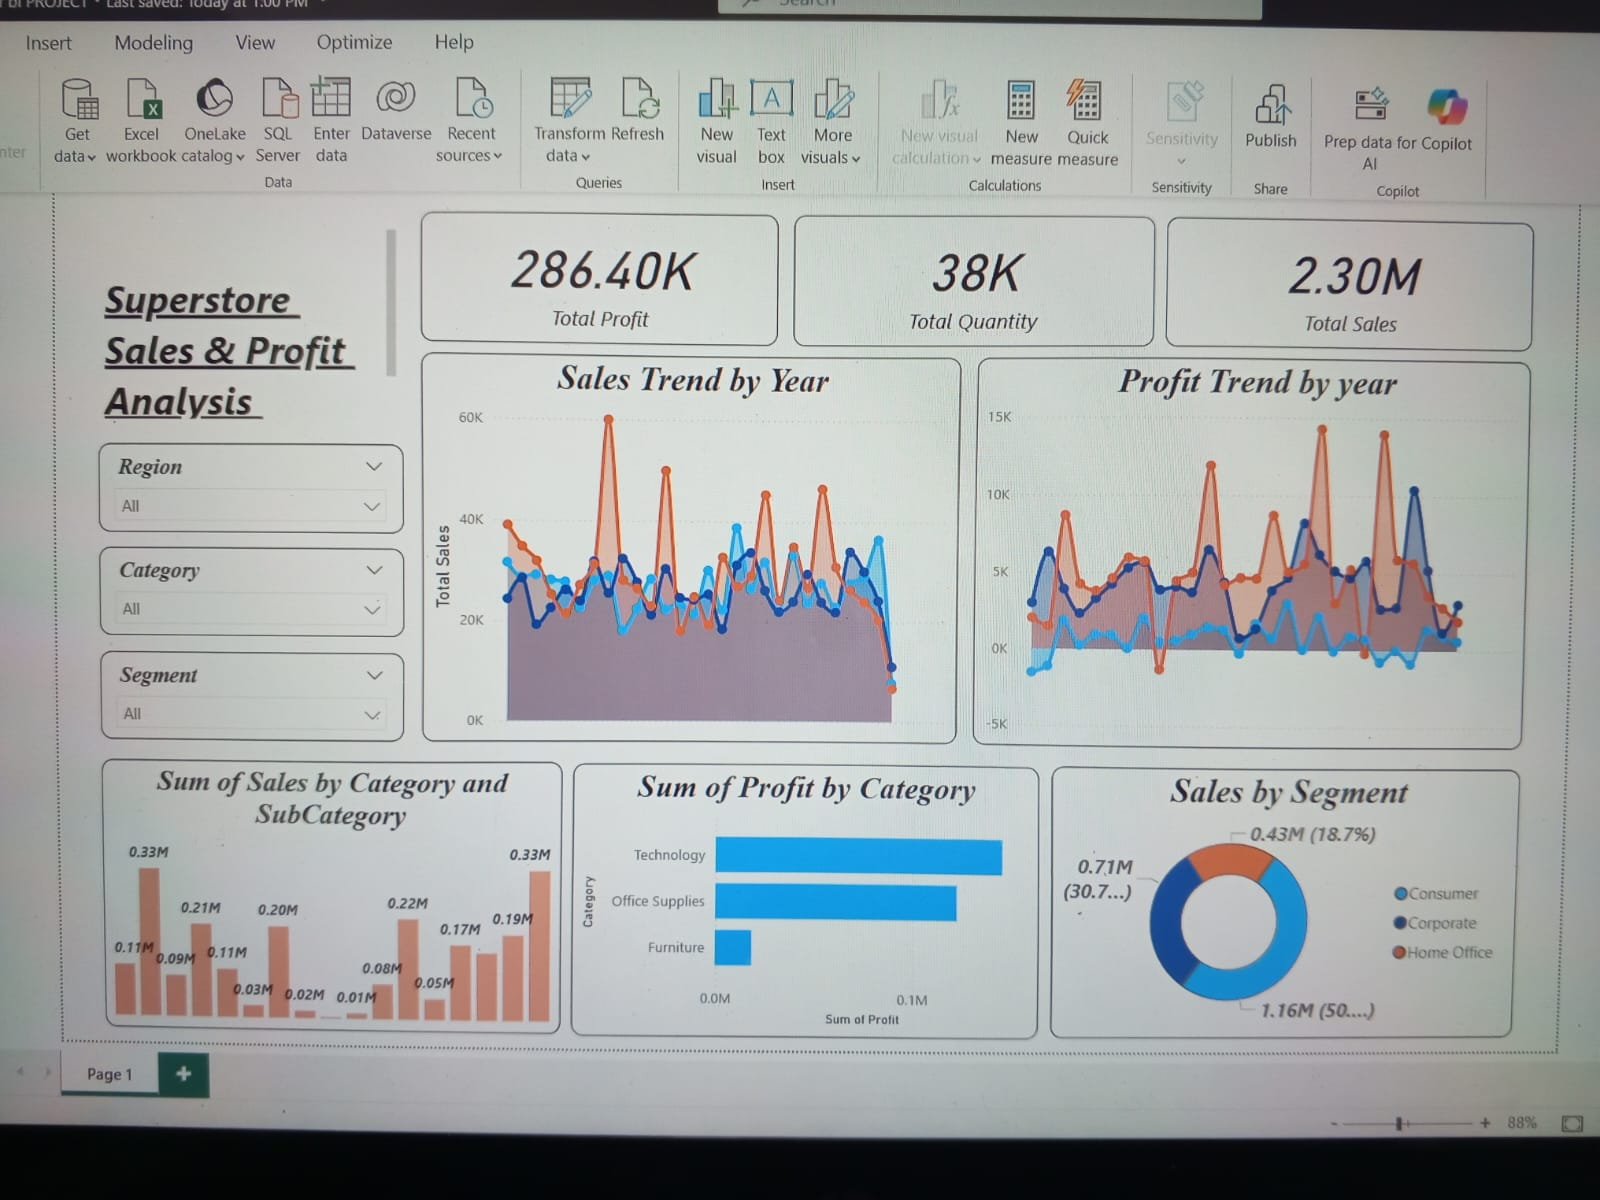

Layout of this report page (visuals, bound fields, positions):
{"tool":"powerbi","page":{"name":"Page 1","canvas":[1280,720],"ordinal":0},"visuals":[{"type":"card","fields":{"Values":["new_SampleSuperstore.Total Profit"]},"box":[310.5,17.4,297.7,107],"z":0},{"type":"card","fields":{"Values":["new_SampleSuperstore.Total Sales"]},"box":[931.4,17.4,310.5,107],"z":1000},{"type":"card","fields":{"Values":["new_SampleSuperstore.Total Quantity"]},"box":[622.1,17.4,300,107],"z":2000},{"type":"lineChart","title":"Sales Trend  by Year","fields":{"Category":["new_SampleSuperstore.OrderYear"],"Y":["new_SampleSuperstore.Total Sales"],"Series":["new_SampleSuperstore.Category"]},"box":[310.5,133.7,452.3,326.7],"z":3000},{"type":"lineChart","title":"Profit Trend by year","fields":{"Category":["new_SampleSuperstore.OrderYear"],"Series":["new_SampleSuperstore.Category"],"Y":["new_SampleSuperstore.Total Profit"]},"box":[776.7,133.7,465.1,326.7],"z":4000},{"type":"columnChart","fields":{"Category":["new_SampleSuperstore.Category","new_SampleSuperstore.SubCategory"],"Y":["Sum(new_SampleSuperstore.Sales)"]},"box":[37.5,477.5,391.2,230],"z":5000},{"type":"donutChart","title":"Sales by Segment","fields":{"Category":["new_SampleSuperstore.Segment"],"Y":["Sum(new_SampleSuperstore.Sales)"]},"box":[843.8,477.5,397.5,230],"z":7000},{"type":"slicer","fields":{"Values":["new_SampleSuperstore.Region"]},"box":[37.2,210.5,258.1,74.4],"z":8000},{"type":"slicer","fields":{"Values":["new_SampleSuperstore.Category"]},"box":[37.2,297.7,258.1,74.4],"z":9000},{"type":"slicer","fields":{"Values":["new_SampleSuperstore.Segment"]},"box":[37.2,386,258.1,74.4],"z":10000},{"type":"textbox","box":[37.2,26.7,258.1,167.4],"z":11000},{"type":"clusteredBarChart","fields":{"Category":["new_SampleSuperstore.Category"],"Y":["Sum(new_SampleSuperstore.Profit)"]},"box":[437.2,477.9,395.3,230.2],"z":11001}]}

Visuals, with their boxes in screenshot pixels (x1, y1, x2, y2):
card - new_SampleSuperstore.Total Profit: 415,217,769,344
card - new_SampleSuperstore.Total Sales: 1153,217,1522,344
card - new_SampleSuperstore.Total Quantity: 786,217,1142,344
"Sales Trend  by Year" lineChart: 415,355,953,743
"Profit Trend by year" lineChart: 969,355,1522,743
columnChart - new_SampleSuperstore.Category x new_SampleSuperstore.SubCategory: 90,764,556,1037
"Sales by Segment" donutChart: 1049,764,1522,1037
slicer - new_SampleSuperstore.Region: 90,446,397,535
slicer - new_SampleSuperstore.Category: 90,550,397,638
slicer - new_SampleSuperstore.Segment: 90,655,397,743
textbox: 90,228,397,427
clusteredBarChart - new_SampleSuperstore.Category x Sum(new_SampleSuperstore.Profit): 566,764,1036,1038
